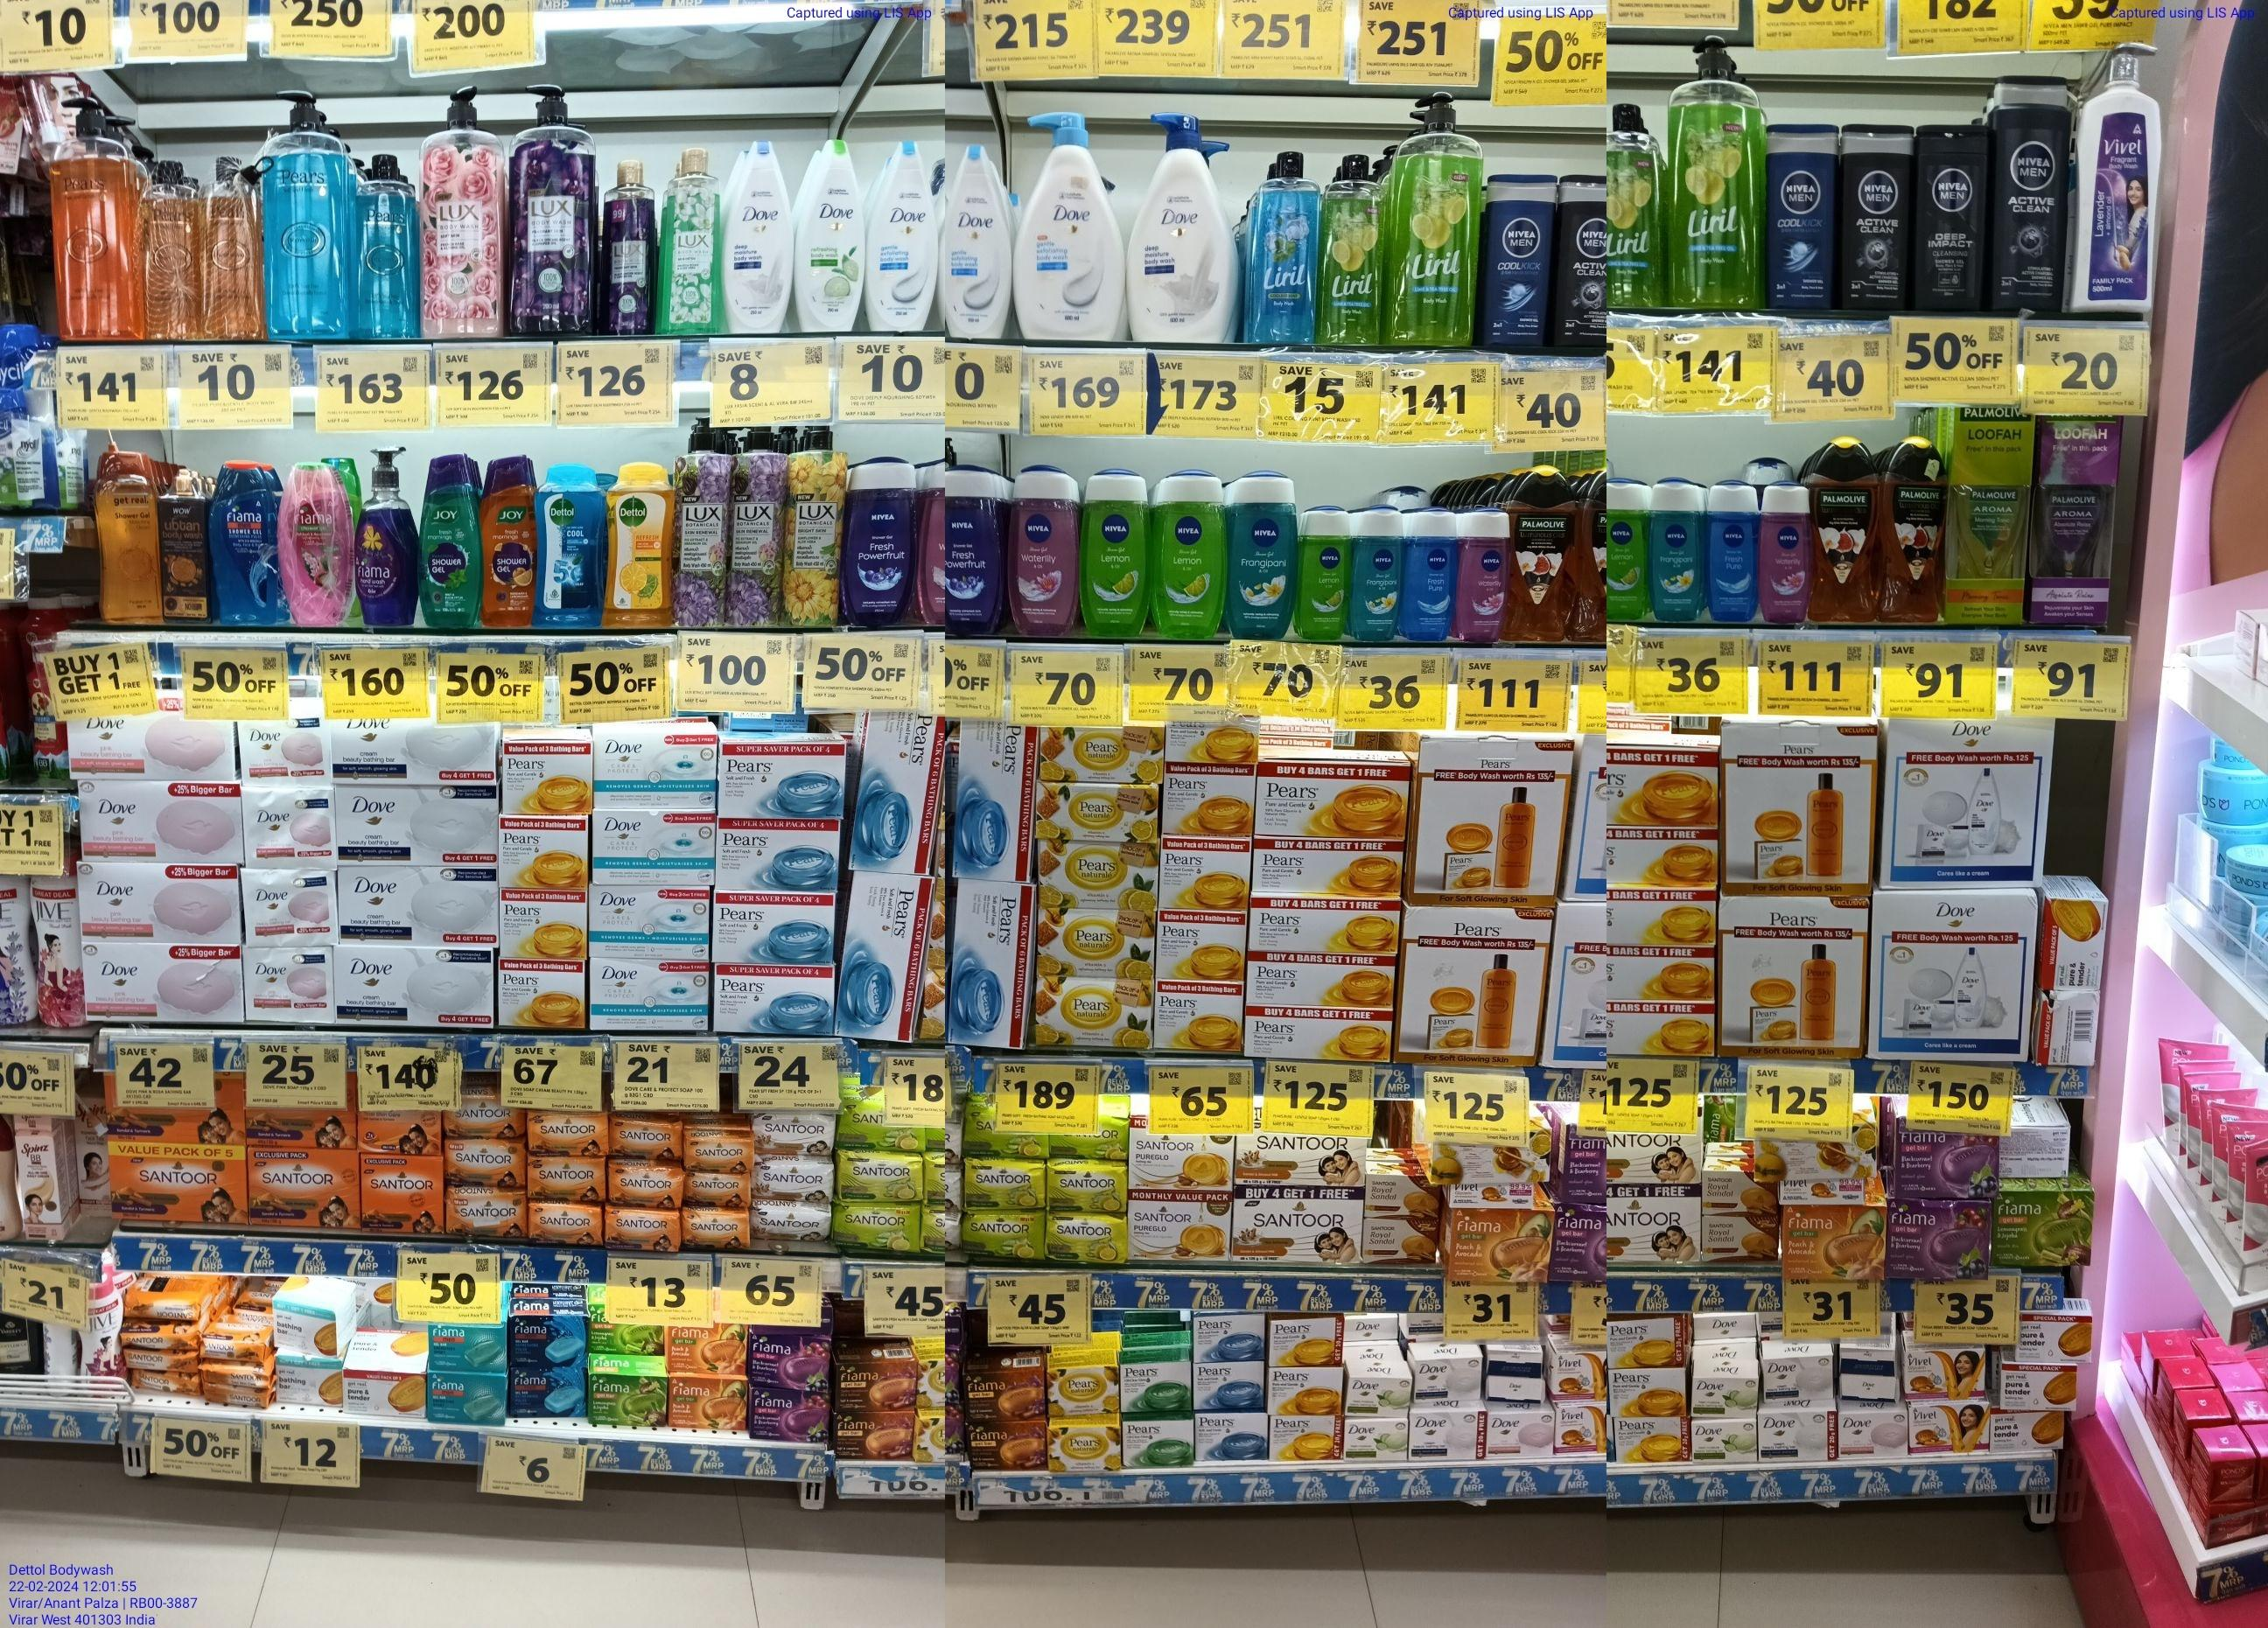Dettol_Bodywash_Cool: (537, 463, 604, 630)
Dettol_Bodywash_Refresh: (606, 459, 674, 628)
Dettol_Nourish_Body_Wash_250ML: (796, 139, 865, 329)
Dove_Deep_Moisture_Body_Wash_250ML: (733, 139, 794, 338)
Dove_Gentle_Exfoliating_Body_Wash_250ML: (868, 137, 940, 333), (944, 136, 1012, 338)
Fiama_Shower_Gel_Patchouli_and_Macadamia_250ML: (280, 461, 349, 623)
Get_Real_Shower_Gel_Moisturising_Glycerin_300ML: (99, 442, 162, 621)
Joy_Shower_Gel_Mandarin_and_Lemongrass_250ML: (484, 454, 535, 630)
Joy_Shower_Gel_Mint_and_Eucalyptus_250ML: (416, 451, 481, 630)
Liril_Cooling_Mint_Body_Wash_250ML: (1248, 150, 1317, 347)
Liril_Lime_and_Tea_Tree_Oil_Body_Wash_250ML: (1317, 148, 1381, 345), (1608, 102, 1668, 306)
Lux_Black_Orchid_Scent_and_Juniper_Oil_Body_Wash_245ML: (599, 160, 653, 331)
Lux_Body_Wash_Skin_Detox_Freesia_Scent_and_Alove_Vera_245ML: (657, 146, 727, 333)
Nivea_Shower_Gel_Frangipani_and_Oil_250ML: (1229, 468, 1296, 637)
Nivea_Shower_Gel_Fresh_Powerfruit_250ML: (843, 456, 914, 625), (942, 463, 1002, 635)
Nivea_Shower_Gel_Lemon_and_Oil_250ML: (1150, 468, 1226, 641), (1081, 466, 1148, 637)
Nivea_Shower_Gel_Waterlily_and_Oil_250ML: (1009, 465, 1079, 641)
Palmolive_Luminous_Oils_With_White_Orchid_Shower_Gel_250ML: (1507, 463, 1571, 642), (1815, 438, 1875, 625), (1884, 431, 1940, 621)
Pears_Pure_Glycerin_and_Mint_Extracts_Body_Wash_250ML: (356, 151, 417, 340)
